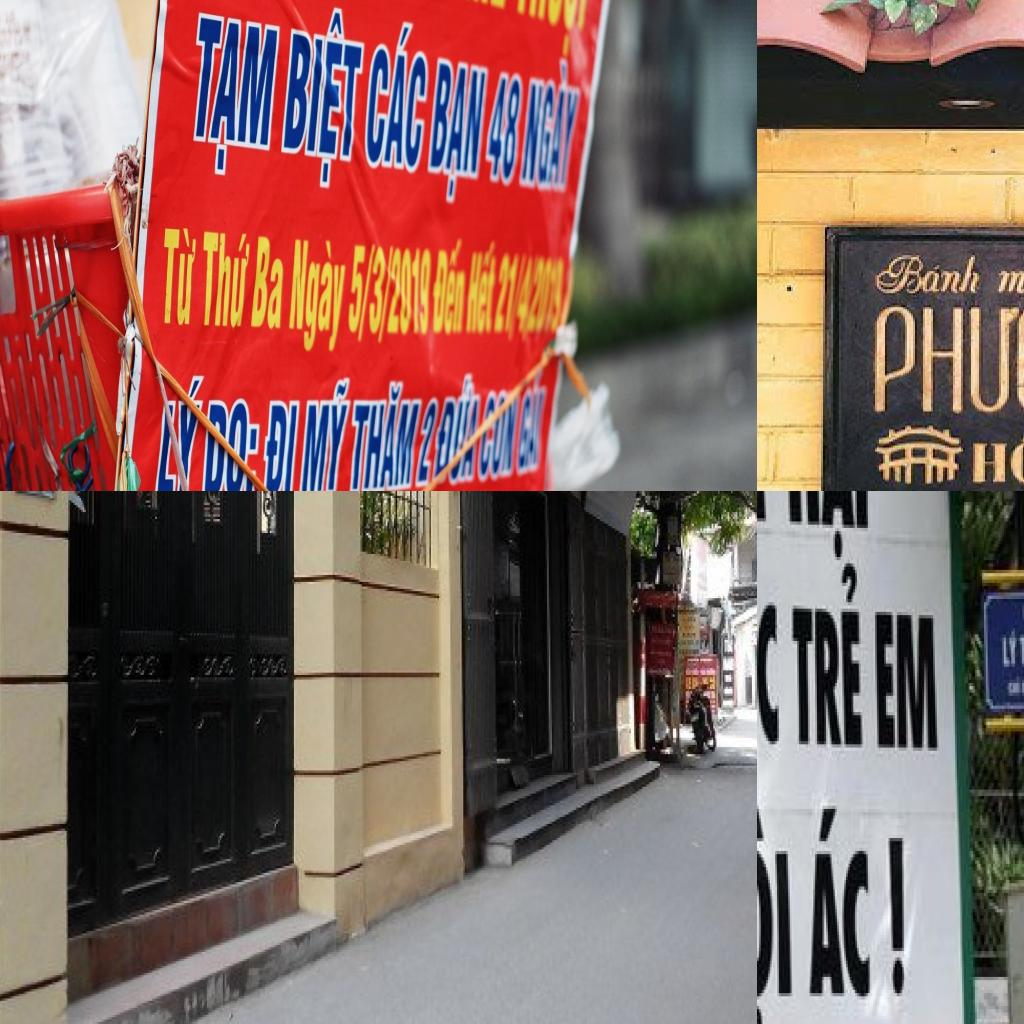text: (274, 0, 368, 205), (873, 303, 1024, 429), (187, 9, 283, 185), (790, 557, 864, 754), (808, 806, 875, 1002), (359, 13, 430, 186), (426, 46, 493, 209), (517, 49, 586, 205), (875, 612, 941, 757), (757, 802, 798, 1024), (344, 376, 422, 491), (284, 226, 350, 358), (149, 367, 206, 491), (786, 491, 871, 570), (296, 376, 351, 491), (195, 224, 253, 332), (509, 0, 609, 62), (494, 247, 564, 335), (483, 65, 527, 195), (199, 395, 258, 491), (871, 253, 987, 297), (433, 376, 478, 488), (160, 212, 199, 335), (757, 602, 782, 786), (247, 228, 288, 335), (383, 246, 431, 336), (260, 390, 301, 491), (477, 385, 517, 485), (515, 367, 549, 475), (430, 237, 467, 335), (888, 838, 908, 1003), (465, 240, 499, 337), (971, 431, 1024, 491), (412, 393, 440, 489), (364, 243, 388, 343), (355, 242, 377, 345), (346, 242, 367, 338), (376, 246, 395, 346), (993, 263, 1024, 297), (1000, 628, 1020, 673)
